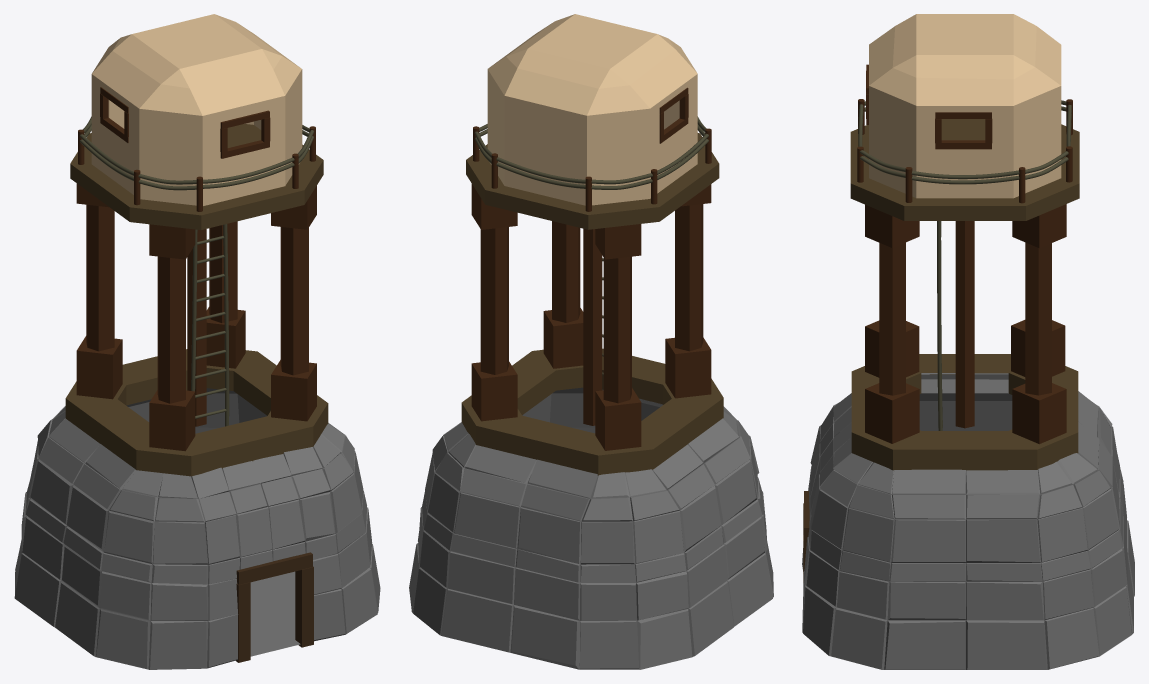
File: _StoneTower.fbx
The picture shows the model from 3 angles, left to right: view 1: azimuth 30°, elevation 25°; view 2: azimuth 150°, elevation 25°; view 3: azimuth 270°, elevation 25°; orthographic projection. The views are drawn at different scales.
Parts seen in each view (by area): view 1: StoneBrickTower; view 2: StoneBrickTower; view 3: StoneBrickTower.
Boxes of the visible parts, left/top/right/bottom form: StoneBrickTower: left=14, top=14, right=380, bottom=669; StoneBrickTower: left=409, top=14, right=773, bottom=669; StoneBrickTower: left=802, top=14, right=1134, bottom=669.
Bounding box in the file's own units: 829 × 1535 × 817.
